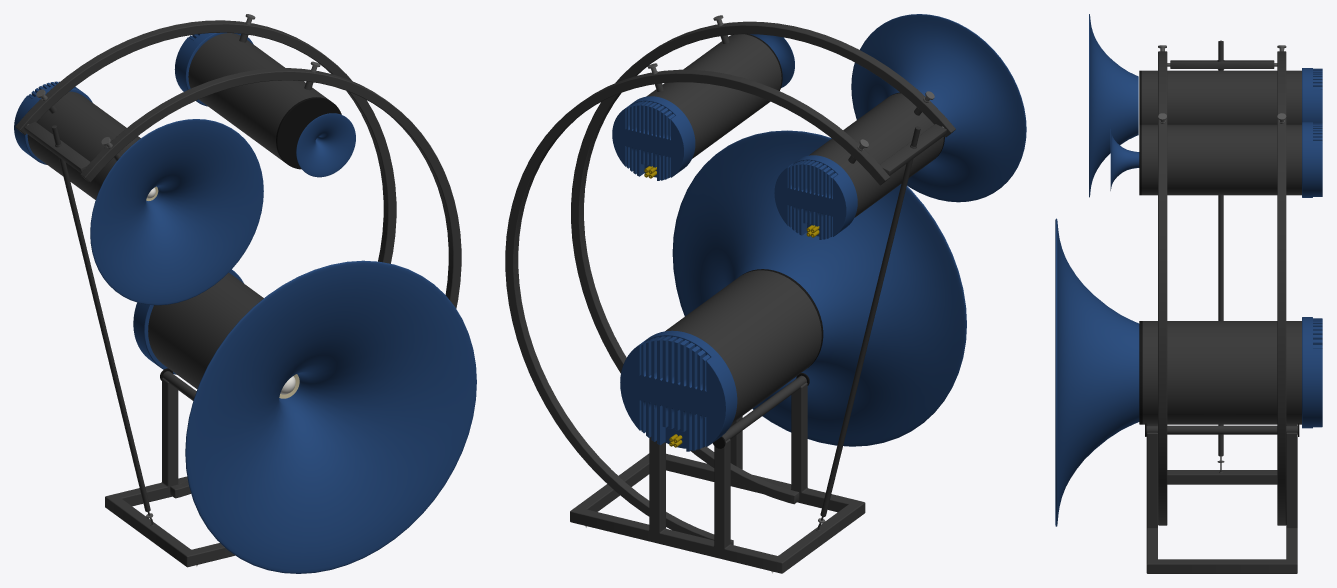
File: monitor.fbx
3 renders of one model, left to right at view 1: azimuth 30°, elevation 25°; view 2: azimuth 150°, elevation 25°; view 3: azimuth 270°, elevation 25°, orthographic. The views are drawn at different scales.
Visible parts, largest first — view 1: archmodels_77_018_obj_03, archmodels_77_018_obj_06, archmodels_77_018_obj_01, archmodels_77_018_obj_20, archmodels_77_018_obj_21, archmodels_77_018_obj_19, archmodels_77_018_obj_07, archmodels_77_018_obj_02, archmodels_77_018_obj_23, archmodels_77_018_obj_08, archmodels_77_018_obj_04, archmodels_77_018_obj_05; view 2: archmodels_77_018_obj_03, archmodels_77_018_obj_01, archmodels_77_018_obj_06, archmodels_77_018_obj_21, archmodels_77_018_obj_04, archmodels_77_018_obj_20, archmodels_77_018_obj_19, archmodels_77_018_obj_05, archmodels_77_018_obj_08, archmodels_77_018_obj_02, archmodels_77_018_obj_07; view 3: archmodels_77_018_obj_01, archmodels_77_018_obj_21, archmodels_77_018_obj_03, archmodels_77_018_obj_20, archmodels_77_018_obj_19, archmodels_77_018_obj_06, archmodels_77_018_obj_04, archmodels_77_018_obj_08, archmodels_77_018_obj_05, archmodels_77_018_obj_02, archmodels_77_018_obj_07, archmodels_77_018_obj_22.
Part boxes in pixels (bbox=[...]): archmodels_77_018_obj_03: bbox=[185, 260, 476, 573]; archmodels_77_018_obj_06: bbox=[90, 119, 263, 305]; archmodels_77_018_obj_01: bbox=[15, 20, 461, 567]; archmodels_77_018_obj_20: bbox=[188, 33, 329, 162]; archmodels_77_018_obj_21: bbox=[148, 272, 263, 389]; archmodels_77_018_obj_19: bbox=[27, 91, 140, 199]; archmodels_77_018_obj_07: bbox=[296, 113, 355, 177]; archmodels_77_018_obj_02: bbox=[51, 125, 153, 524]; archmodels_77_018_obj_23: bbox=[276, 97, 341, 169]; archmodels_77_018_obj_08: bbox=[174, 32, 253, 106]; archmodels_77_018_obj_04: bbox=[133, 269, 243, 374]; archmodels_77_018_obj_05: bbox=[14, 81, 92, 164]; archmodels_77_018_obj_03: bbox=[672, 130, 966, 446]; archmodels_77_018_obj_01: bbox=[505, 21, 955, 573]; archmodels_77_018_obj_06: bbox=[851, 14, 1026, 202]; archmodels_77_018_obj_21: bbox=[665, 270, 821, 422]; archmodels_77_018_obj_04: bbox=[620, 330, 737, 451]; archmodels_77_018_obj_20: bbox=[646, 34, 781, 158]; archmodels_77_018_obj_19: bbox=[809, 93, 943, 217]; archmodels_77_018_obj_05: bbox=[774, 155, 857, 239]; archmodels_77_018_obj_08: bbox=[612, 96, 695, 180]; archmodels_77_018_obj_02: bbox=[817, 126, 920, 529]; archmodels_77_018_obj_07: bbox=[750, 34, 794, 87]; archmodels_77_018_obj_01: bbox=[1146, 51, 1297, 573]; archmodels_77_018_obj_21: bbox=[1142, 321, 1301, 424]; archmodels_77_018_obj_03: bbox=[1055, 218, 1139, 526]; archmodels_77_018_obj_20: bbox=[1141, 124, 1301, 195]; archmodels_77_018_obj_19: bbox=[1141, 70, 1301, 124]; archmodels_77_018_obj_06: bbox=[1089, 14, 1138, 197]; archmodels_77_018_obj_04: bbox=[1302, 317, 1322, 428]; archmodels_77_018_obj_08: bbox=[1302, 122, 1322, 197]; archmodels_77_018_obj_05: bbox=[1302, 68, 1322, 122]; archmodels_77_018_obj_02: bbox=[1217, 40, 1224, 471]; archmodels_77_018_obj_07: bbox=[1110, 129, 1139, 190]; archmodels_77_018_obj_22: bbox=[1139, 321, 1142, 424].
Bounding box in the file's own units: 133 × 150 × 82.12.
